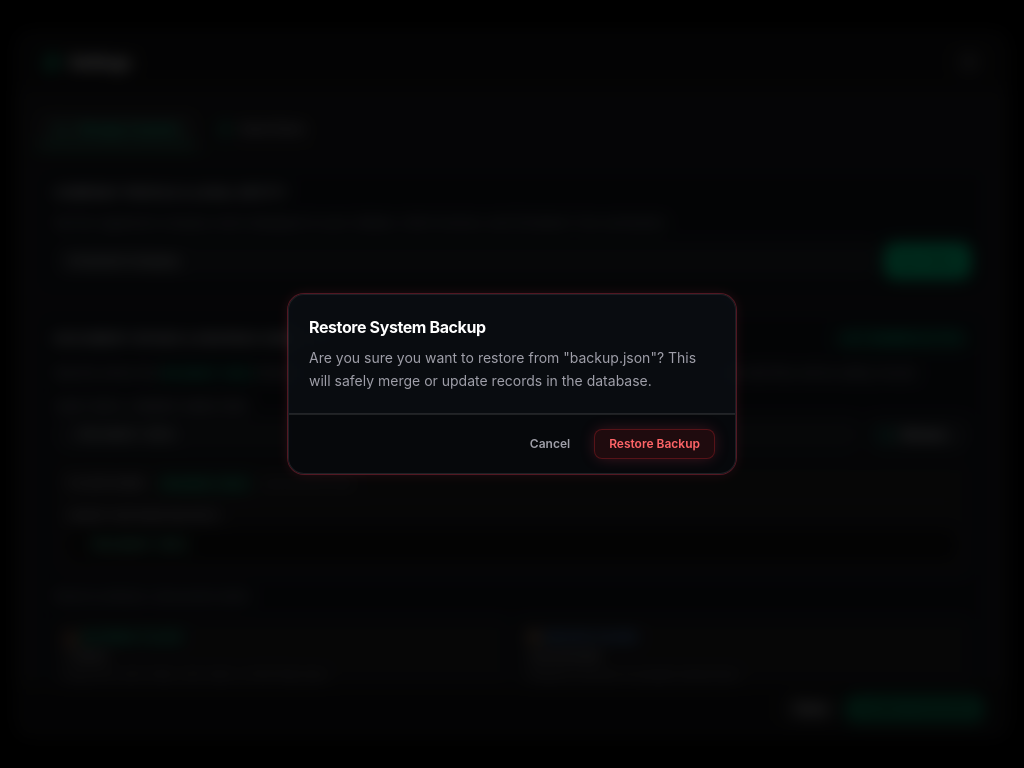
Test: S20 Settings, Chart of Accounts & Bank Rules › AppSettingsModal › supports backup download, confirmed/cancelled/failed JSON restore, and switches to Bank Rules tab
Earlier steps of the test are not shown.
Later steps or results of the test are not shown.
Click the button "Restore Backup". click: (655, 444)
box: [594,429,715,459]
(page scrolled)
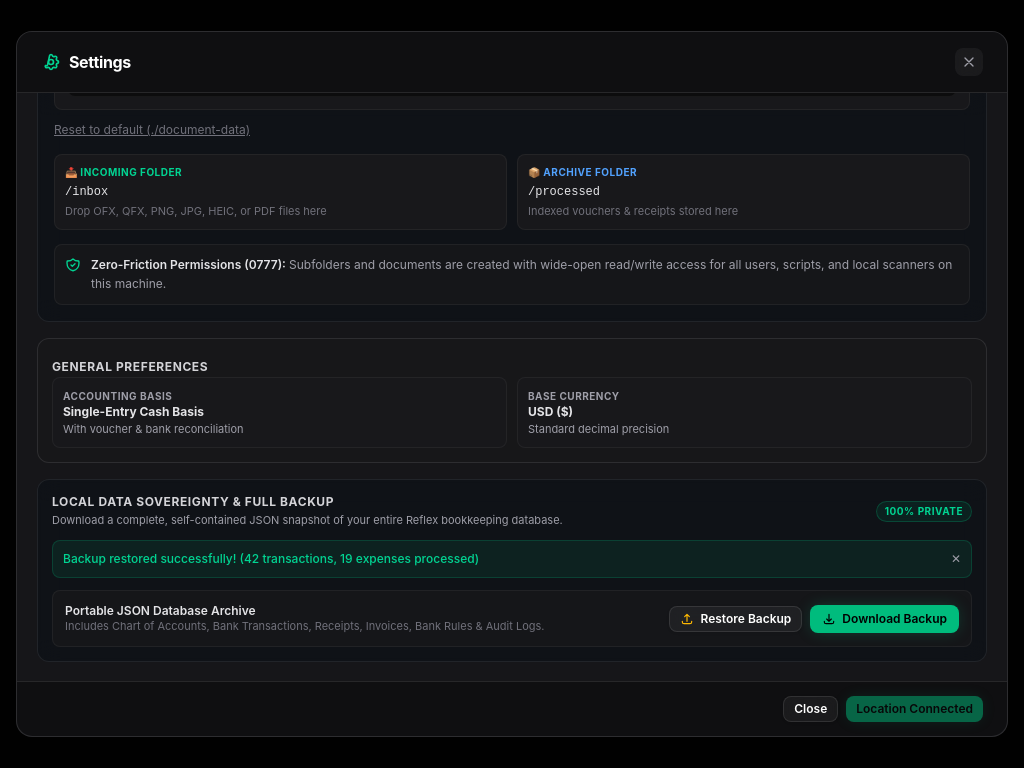
Expected: the message shows "Backup restored successfully! (42 transactions, 19 expenses processed)", [63,552,479,566]
Click the button named "Dismiss restore status". click: (956, 560)
box: [951,552,961,568]
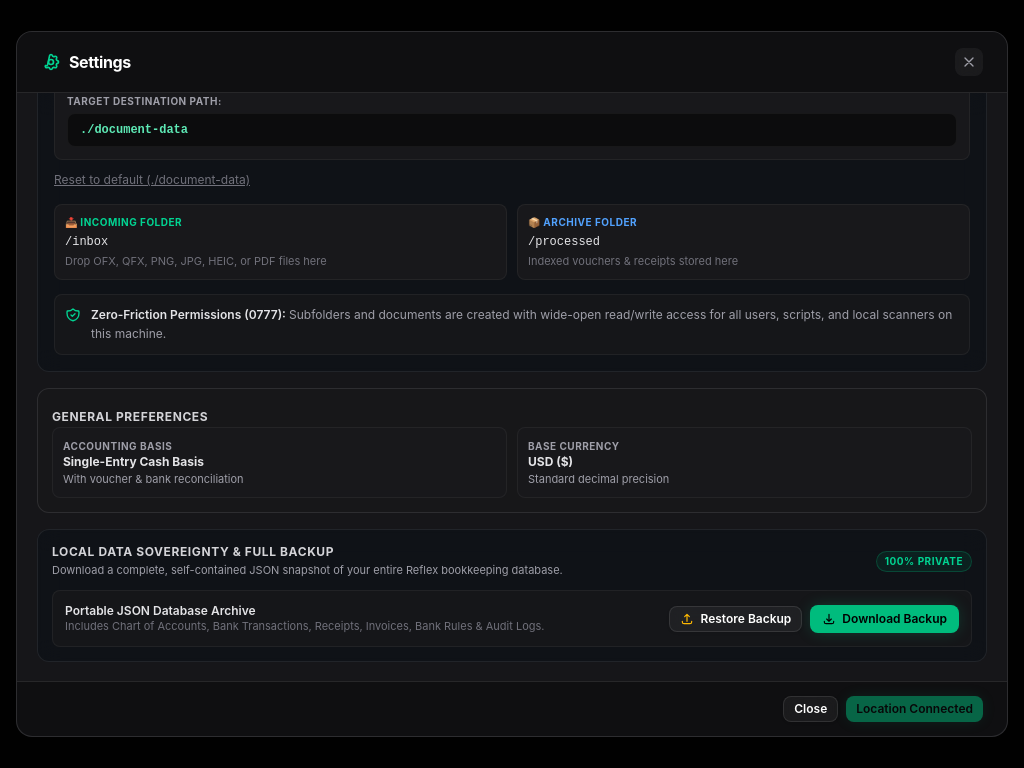
Expected: the message "Backup restored successfully! (42 transactions, 19 expenses processed) ✕" is gone
